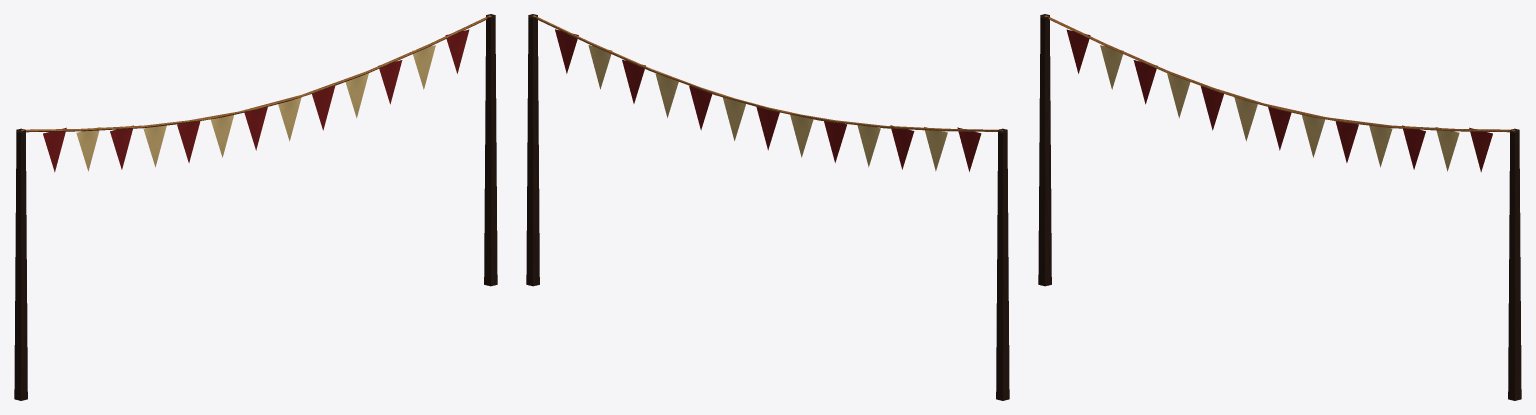
File: Bandeirolas_de_rua_LOD1.fbx
3 renders of one model, left to right at view 1: azimuth 30°, elevation 25°; view 2: azimuth 150°, elevation 25°; view 3: azimuth 330°, elevation 25°, orthographic.
Parts seen in each view (by area): view 1: Bandeirolas_de_rua_LOD1; view 2: Bandeirolas_de_rua_LOD1; view 3: Bandeirolas_de_rua_LOD1.
Boxes of the visible parts, x1,y1,x2,y2 form: Bandeirolas_de_rua_LOD1: (14, 14, 497, 400); Bandeirolas_de_rua_LOD1: (526, 14, 1009, 400); Bandeirolas_de_rua_LOD1: (1038, 14, 1521, 400).
Size of the model in its own units: 720 by 382 by 17.32.
1 material, 1 textured.
